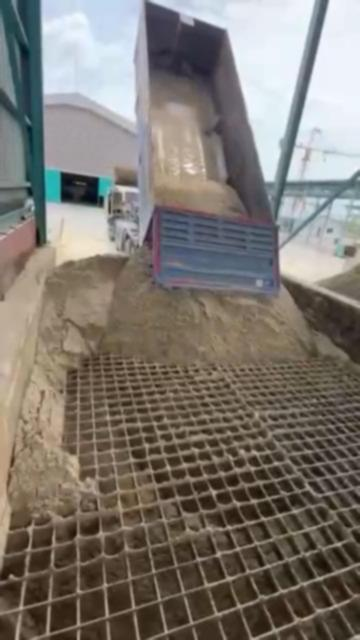sand: (9, 248, 313, 514), (148, 67, 246, 215), (313, 331, 360, 372), (320, 263, 360, 301)
